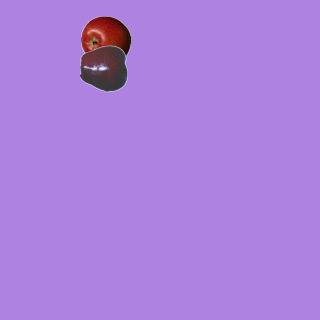Apple Braeburn: (80, 15, 130, 65)
Apple Red Delicious: (79, 43, 129, 93)
